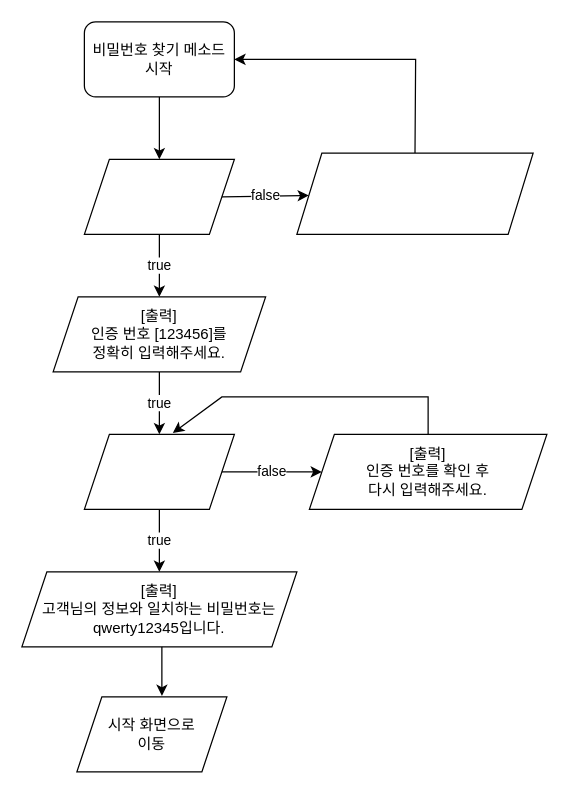
The diagram is 569 pixels wide and 794 high, and some of its shapes have lost their labels. The box of each missing label's shape, as (x1, y1, x2, y2) in pixels:
[입력] 인증 번호 :: (83, 433, 234, 509)
[입출력] 아이디 : 휴대폰 번호 :: (83, 158, 234, 234)
[출력] 비밀번호를 찾을 수 없습니다. 아이디나 휴대폰 번호를 맞게 입력해주세요.: (296, 152, 533, 234)
